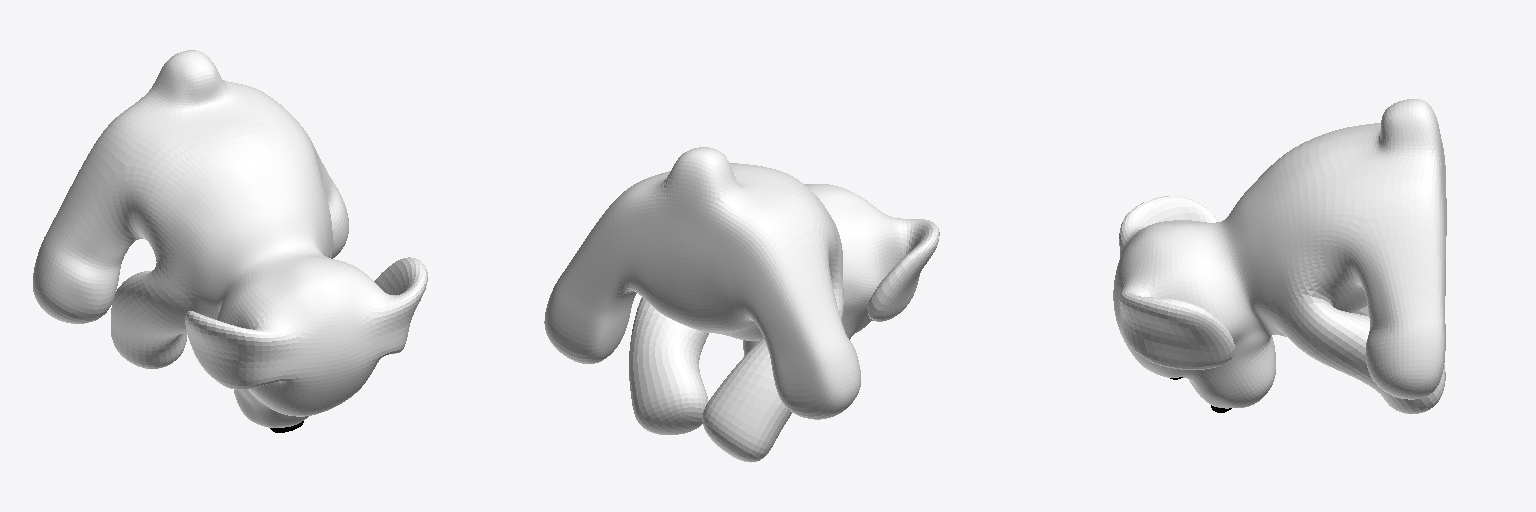
Rendered from 11706_stuffed_animal_L2.obj.
3 views of the same model, side by side, from view 1: azimuth 30°, elevation 25°; view 2: azimuth 150°, elevation 25°; view 3: azimuth 270°, elevation 25° (orthographic).
Parts seen in each view (by area): view 1: toy_dog_body; view 2: toy_dog_body; view 3: toy_dog_body.
Part boxes in pixels (left/top/right/bottom): toy_dog_body: left=33, top=50, right=427, bottom=427; toy_dog_body: left=544, top=147, right=939, bottom=462; toy_dog_body: left=1113, top=99, right=1446, bottom=413.
Size of the model in its own units: 25.28 by 24.44 by 23.95.